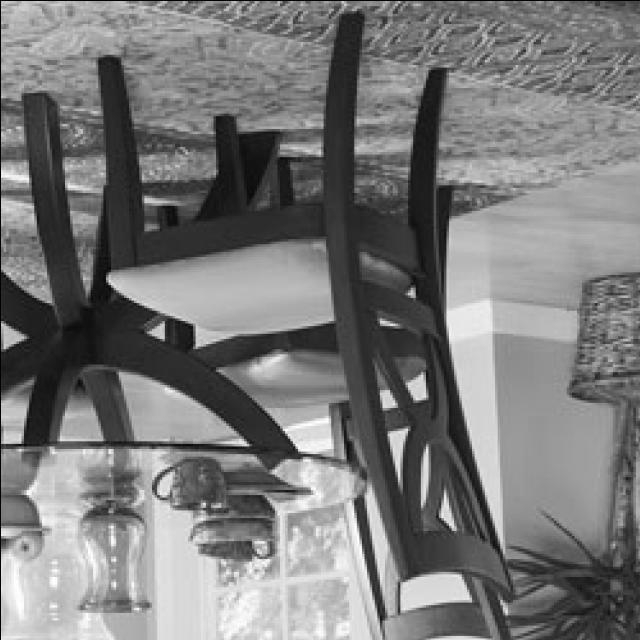chair: (97, 14, 514, 596), (158, 162, 510, 640)
